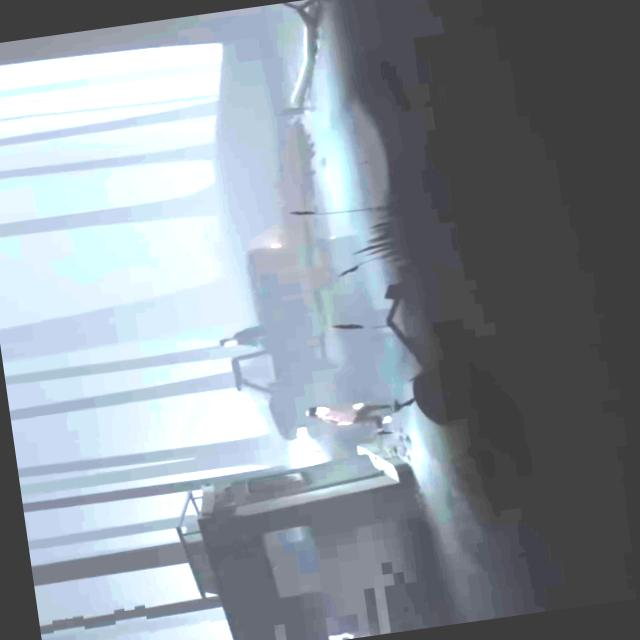boy: (304, 393, 401, 438)
